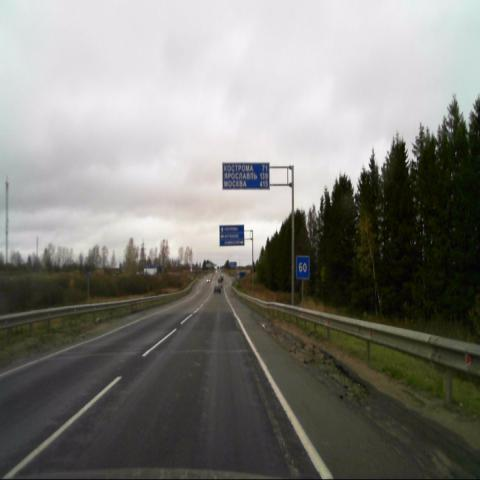6_2: (295, 255, 310, 280)
